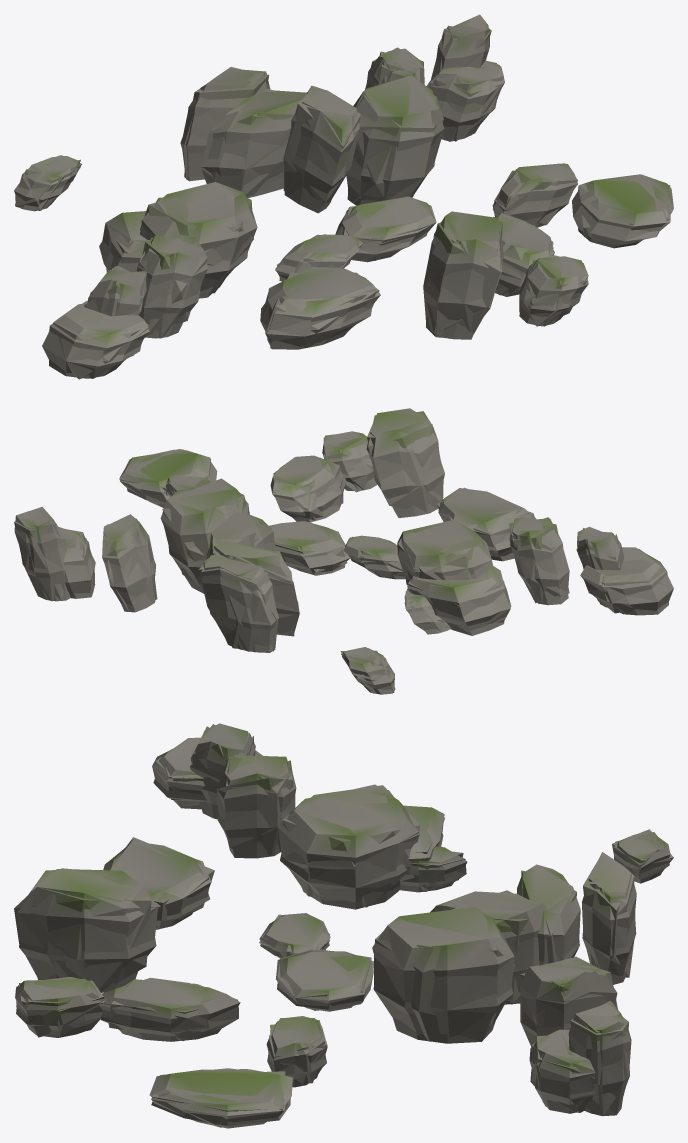
The model's file is Scree.glb.
3 views of the same model, one above another, from view 1: azimuth 30°, elevation 25°; view 2: azimuth 150°, elevation 25°; view 3: azimuth 270°, elevation 25° (orthographic). The views are drawn at different scales.
Parts seen in each view (by area): view 1: Scree_L0, Scree_L1, Scree_L2; view 2: Scree_L0, Scree_L1, Scree_L2; view 3: Scree_L0, Scree_L1, Scree_L2.
Part boxes in pixels (bbox=[...]): Scree_L0: bbox=[14, 14, 673, 378]; Scree_L1: bbox=[15, 25, 670, 378]; Scree_L2: bbox=[24, 28, 670, 379]; Scree_L0: bbox=[14, 411, 668, 694]; Scree_L1: bbox=[14, 408, 673, 692]; Scree_L2: bbox=[14, 415, 671, 693]; Scree_L0: bbox=[15, 723, 670, 1128]; Scree_L1: bbox=[16, 724, 670, 1127]; Scree_L2: bbox=[14, 726, 673, 1127].
Bounding box in the file's own units: 4 × 0.6155 × 3.02.
